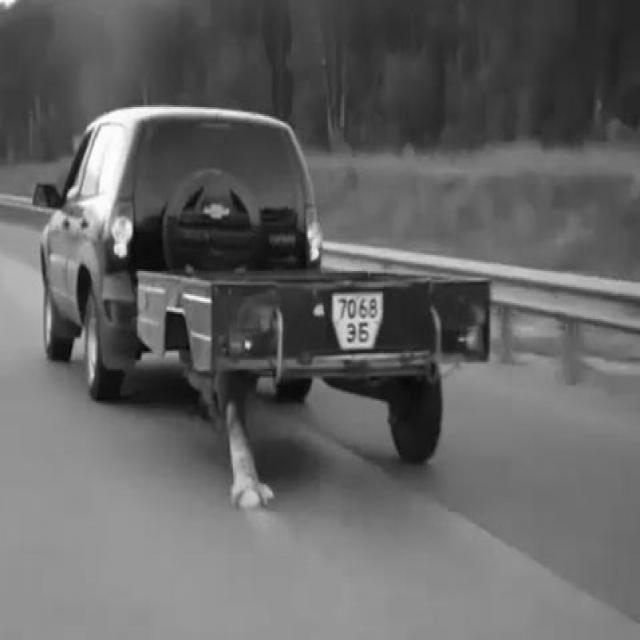Box Truck: (135, 272, 492, 466)
SUV: (36, 107, 324, 403)
